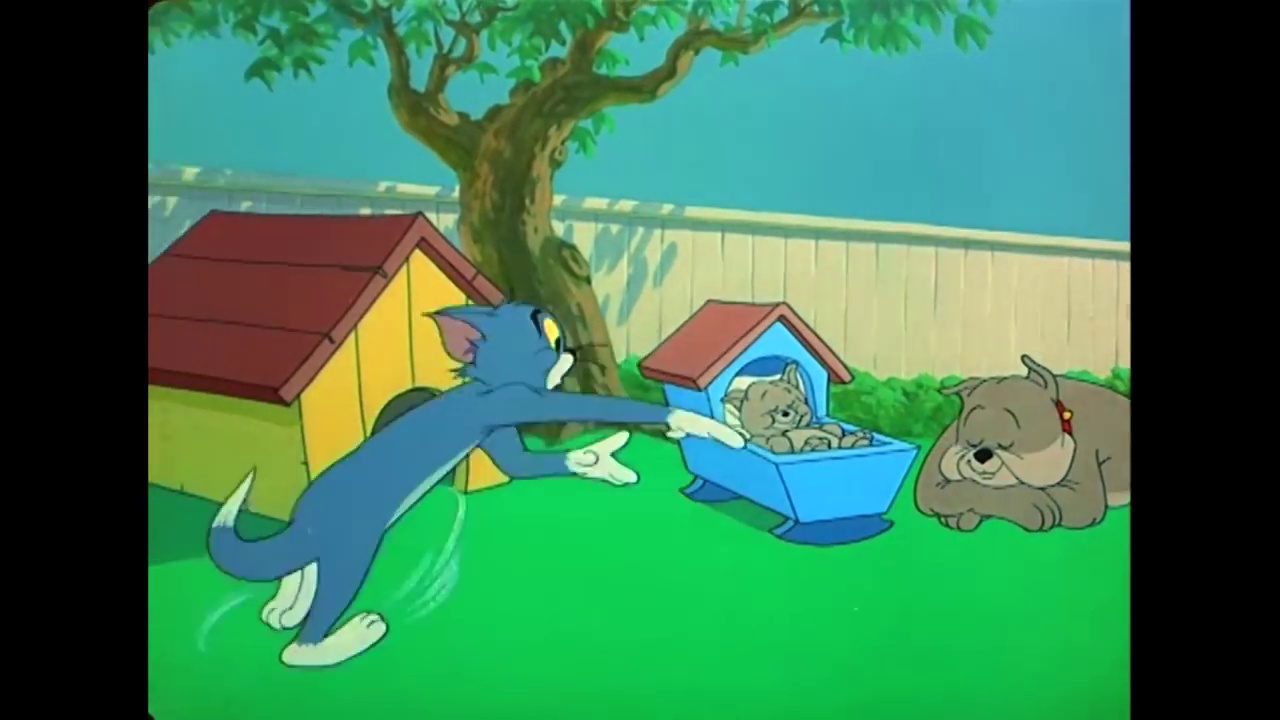spike: (937, 351, 1078, 493)
tom: (425, 291, 597, 400)
